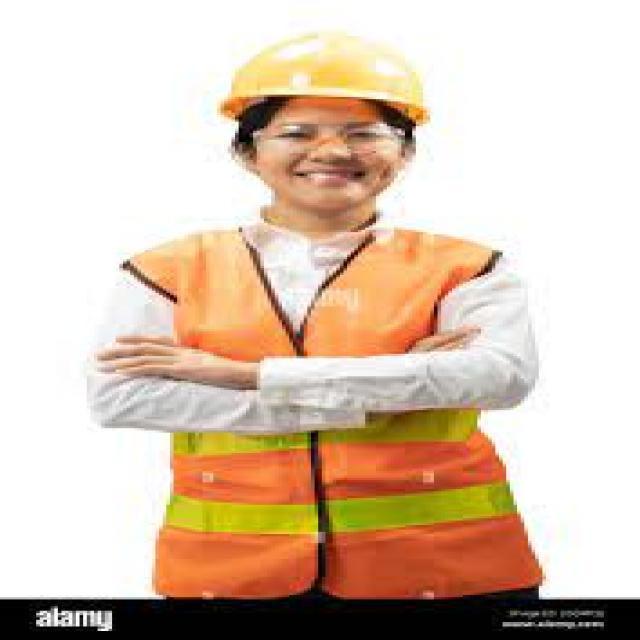reflective_jacket: (119, 218, 549, 606)
safety_helmet: (206, 22, 444, 126)
